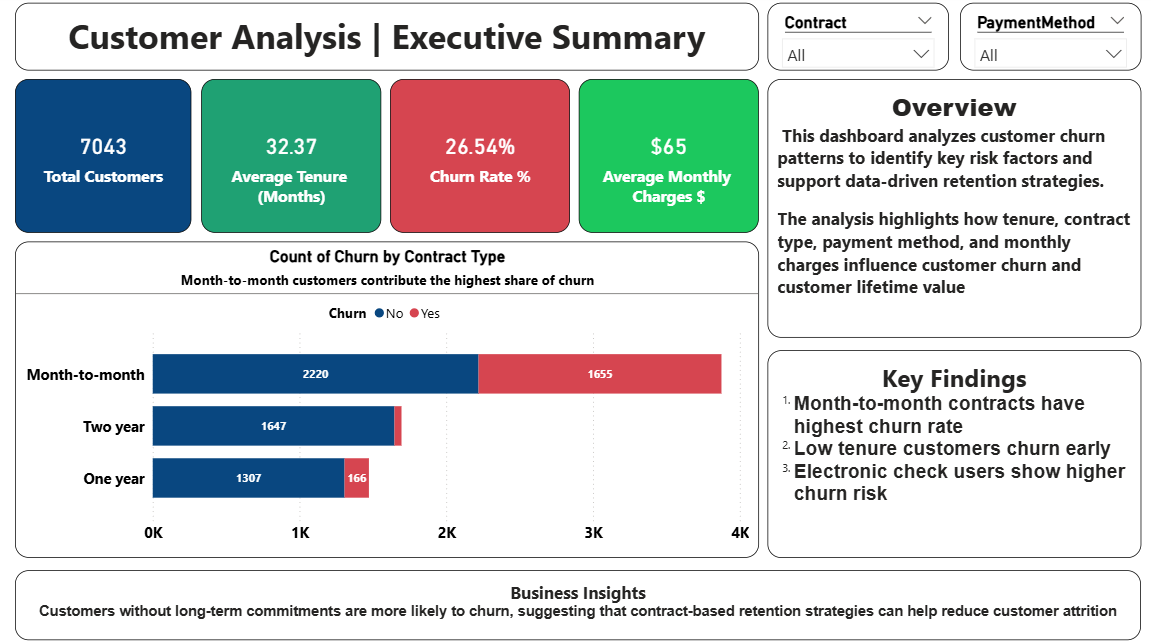

The page's visual inventory and layout, read from the dashboard file:
{"tool":"powerbi","page":{"name":"Executive Summary","canvas":[1280,720],"ordinal":0},"visuals":[{"type":"card","fields":{"Values":["CountNonNull(cleaned_churn.Churn)"]},"box":[22,93.3,193.5,168.8],"z":0},{"type":"card","fields":{"Values":["Measures_Table.Churn Rate %"]},"box":[433.6,93.3,197.6,168.8],"z":1000},{"type":"card","fields":{"Values":["Avg(cleaned_churn.tenure)"]},"box":[226.4,93.3,197.6,168.8],"z":2000},{"type":"slicer","fields":{"Values":["cleaned_churn.Contract"]},"box":[848,9.6,199,74.1],"z":3000},{"type":"textbox","box":[22,9.6,816.5,74.1],"z":4000},{"type":"barChart","title":"Count of Churn by Contract Type","fields":{"Category":["cleaned_churn.Contract"],"Y":["CountNonNull(cleaned_churn.Churn)"],"Series":["cleaned_churn.Churn"]},"box":[22,271.7,816.5,347.2],"z":5000},{"type":"textbox","box":[848,93.3,410.3,284],"z":6000},{"type":"textbox","box":[848,391.1,410.3,227.8],"z":7000},{"type":"textbox","box":[22,632.6,1236.4,76.8],"z":8000},{"type":"card","fields":{"Values":["Avg(cleaned_churn.MonthlyCharges)"]},"box":[640.8,93.3,197.6,168.8],"z":9000},{"type":"slicer","fields":{"Values":["cleaned_churn.PaymentMethod"]},"box":[1059.4,9.6,199,74.1],"z":9001}]}

Visuals, with their boxes in screenshot pixels (x1, y1, x2, y2), scaled from the page's 1280x720 canvas onto the 1151x644 screenshot:
card - CountNonNull(cleaned_churn.Churn): box=[20, 83, 194, 234]
card - Measures_Table.Churn Rate %: box=[390, 83, 568, 234]
card - Avg(cleaned_churn.tenure): box=[204, 83, 381, 234]
slicer - cleaned_churn.Contract: box=[763, 9, 941, 75]
textbox: box=[20, 9, 754, 75]
"Count of Churn by Contract Type" barChart: box=[20, 243, 754, 554]
textbox: box=[763, 83, 1131, 337]
textbox: box=[763, 350, 1131, 554]
textbox: box=[20, 566, 1132, 635]
card - Avg(cleaned_churn.MonthlyCharges): box=[576, 83, 754, 234]
slicer - cleaned_churn.PaymentMethod: box=[953, 9, 1132, 75]
